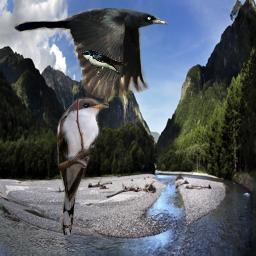Crow: (14, 6, 169, 99)
Cuckoo: (56, 97, 109, 235)
Swallow: (81, 49, 129, 77)
